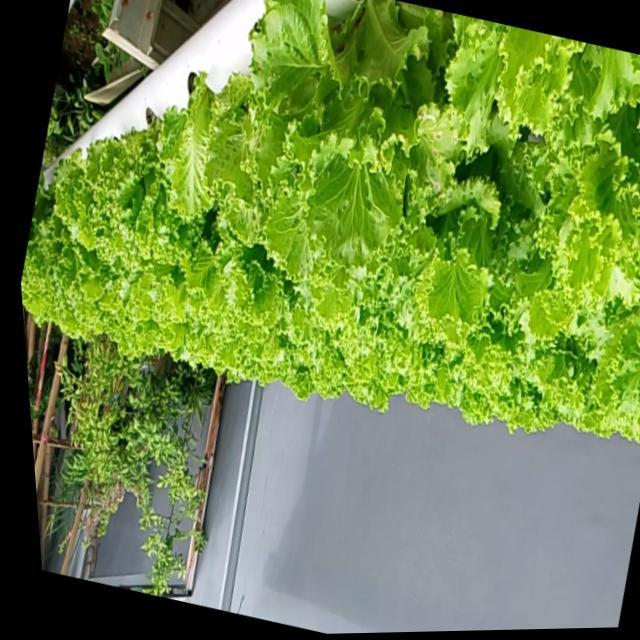Mature: (24, 0, 640, 480), (221, 1, 424, 302), (30, 119, 188, 327)
